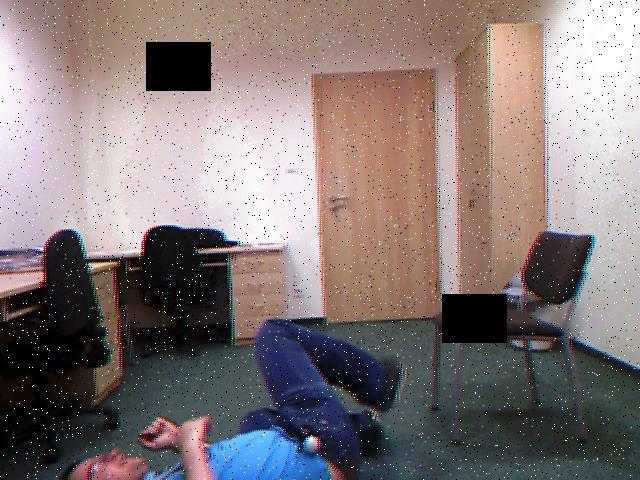fall: (61, 320, 406, 479)
